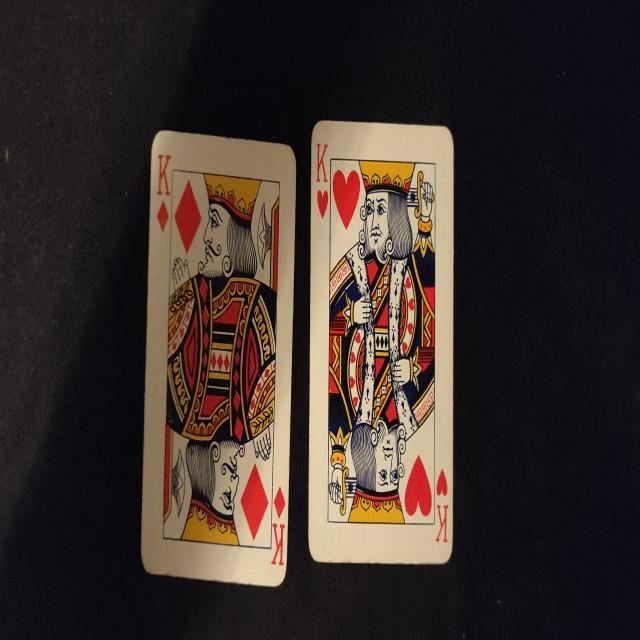Diamond: (240, 463, 269, 541), (174, 180, 202, 254), (274, 485, 286, 519), (157, 202, 169, 232)
Heart: (404, 454, 432, 516), (332, 170, 360, 230), (317, 190, 328, 219), (437, 468, 448, 496)
King: (271, 523, 285, 566), (157, 154, 171, 196), (436, 504, 448, 542), (316, 144, 328, 182)
